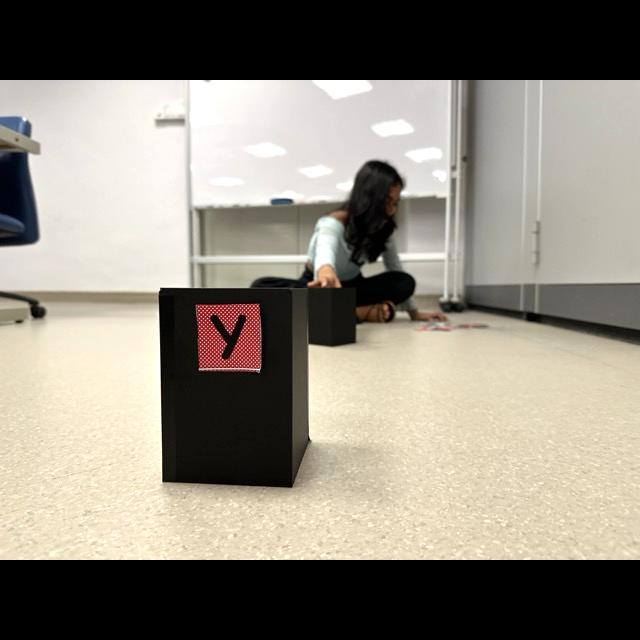Y: (210, 315, 245, 359)
